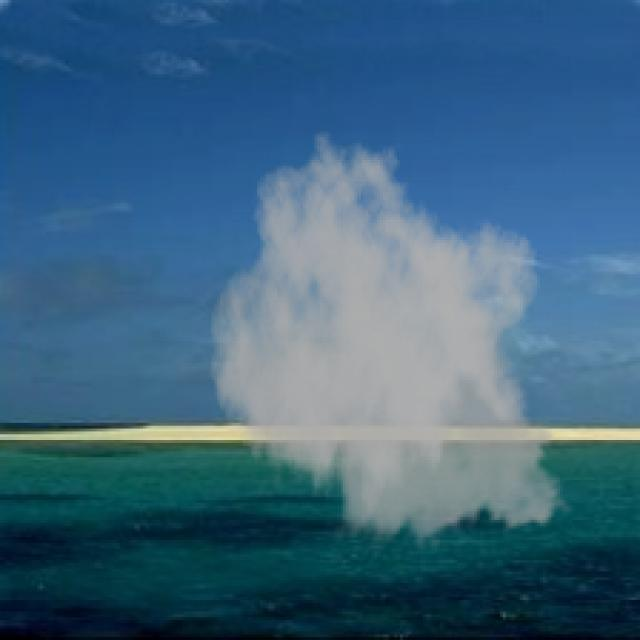smoke: (209, 129, 577, 554)
